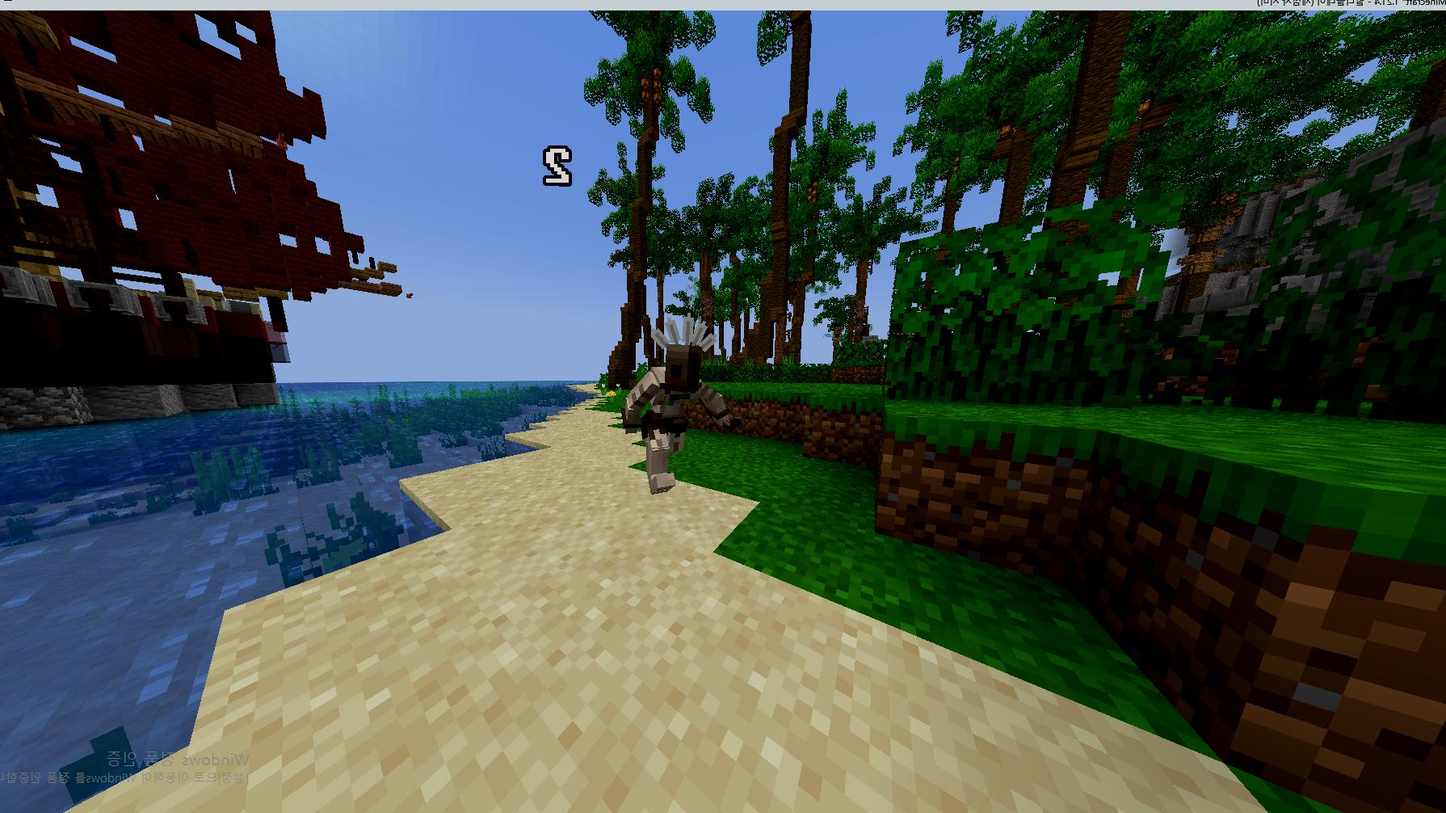bow_indian: (594, 313, 734, 509)
